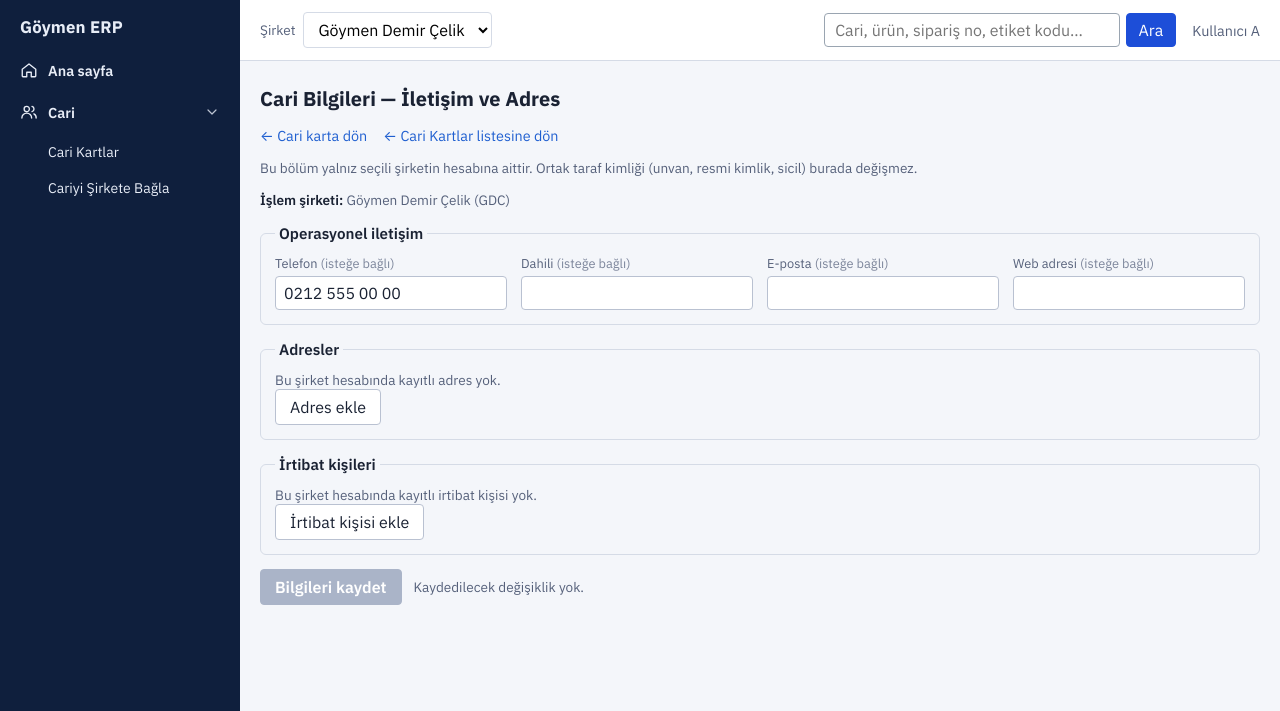
Test: C-06 refusals — the draft survives every one of them › a version conflict is definite: no resend, and the draft is kept for a fresh read
Replace the text in the field with id "cari-contact-phone" with "+90 212 555 00 01" at (391, 293), box [275,276,507,310]
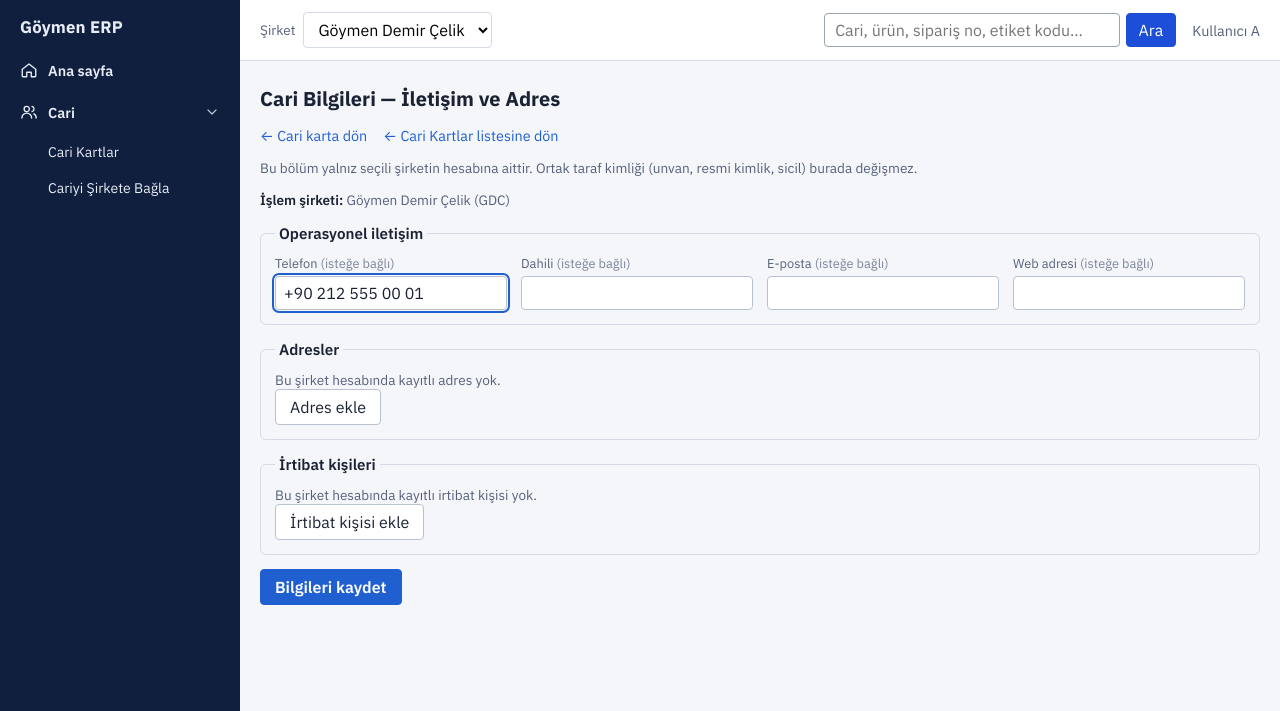
Click the button "Bilgileri kaydet" at (331, 587), box [260,569,402,605]
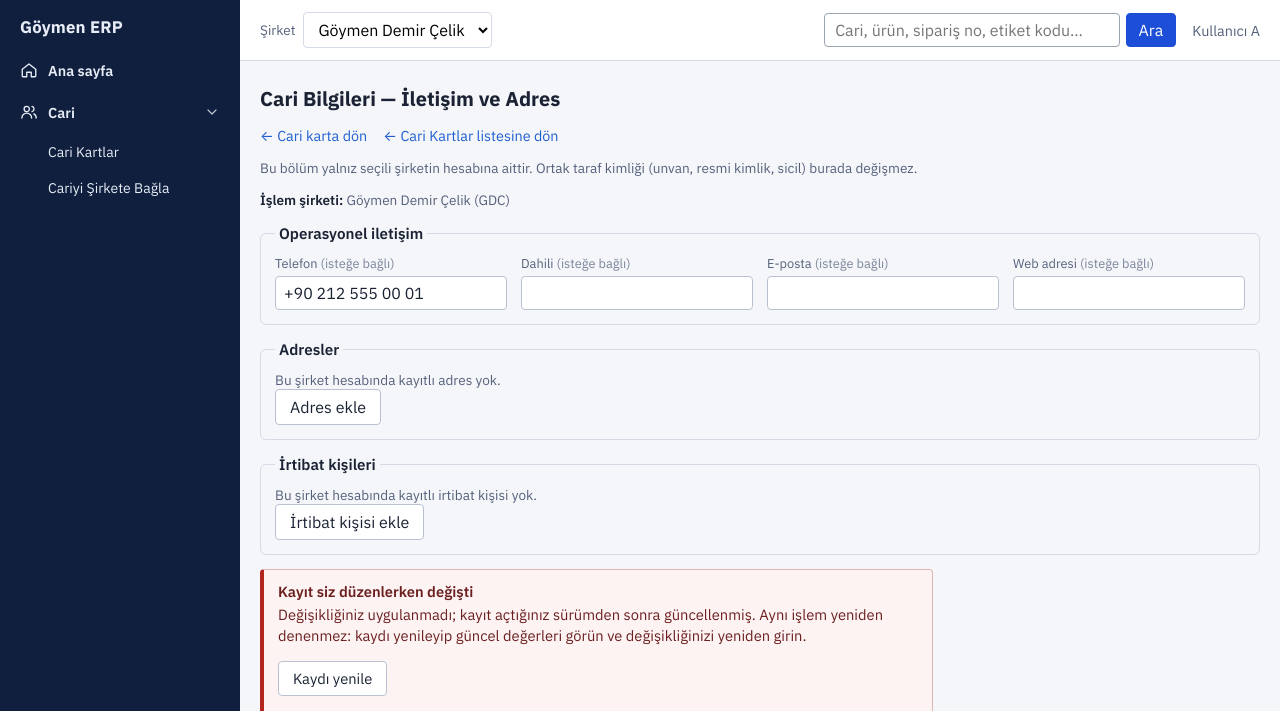
Expected: the message shows "Kayıt siz düzenlerken değişti", [278,582,473,601]
Expected: the button "Kaydı yenile" is shown, [278,661,387,696]
